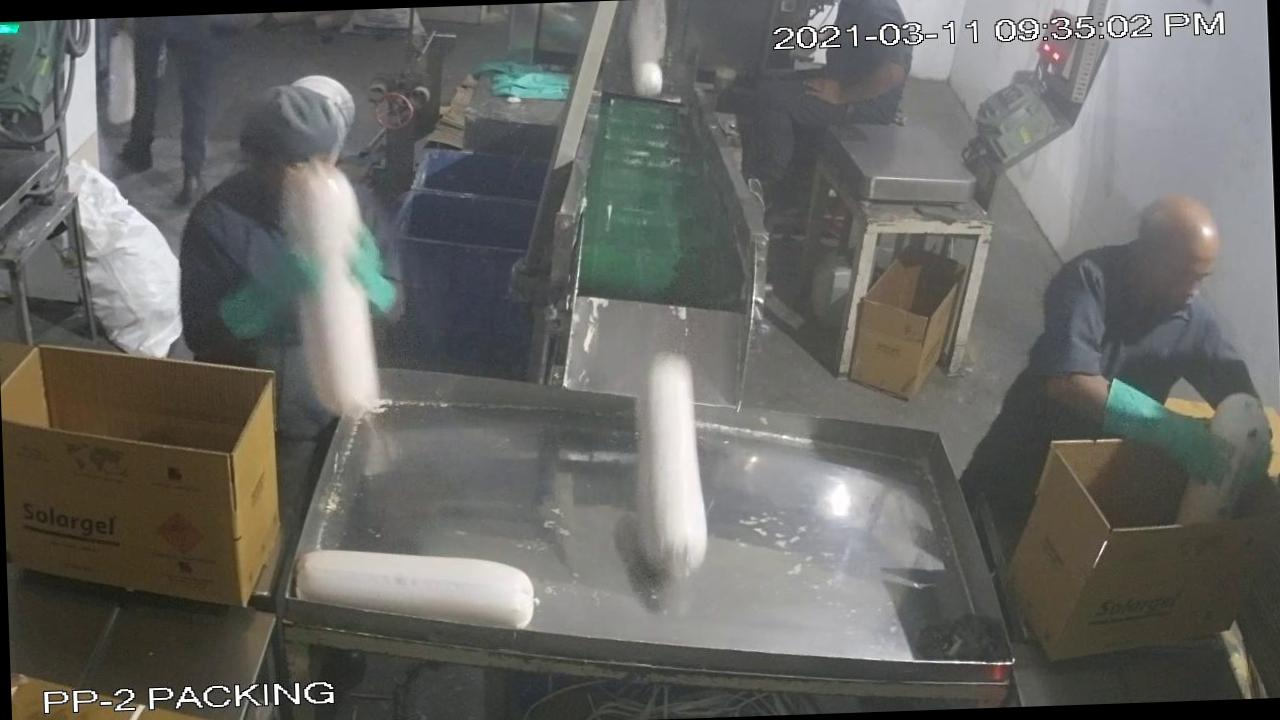Gloves: (1062, 364, 1234, 506)
No-gloves: (798, 48, 930, 128)
